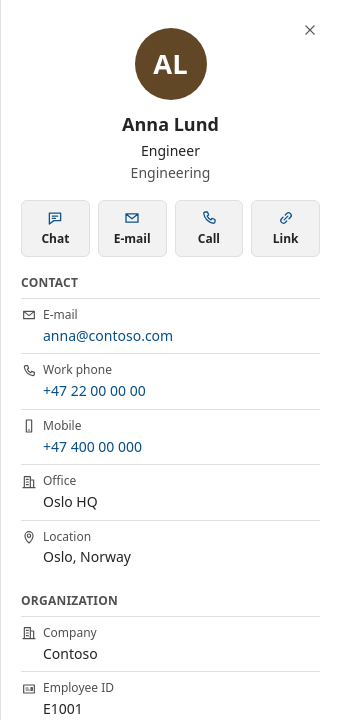
it: EmployeeDetailsPanel › copies a link to the person and says so
Click the button with aria-label "Copy link".
click(286, 229)  # box 251,200 -> 320,257
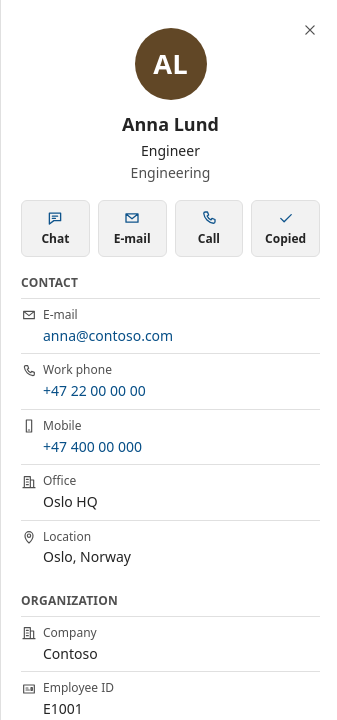
expect the button "Copied" is shown: met, box 251,200 -> 320,257
